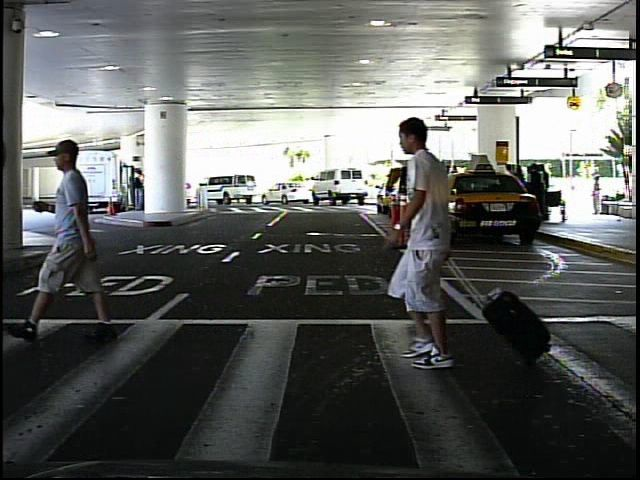person: (385, 111, 494, 378), (21, 132, 126, 344), (64, 170, 83, 221), (588, 172, 607, 218)
